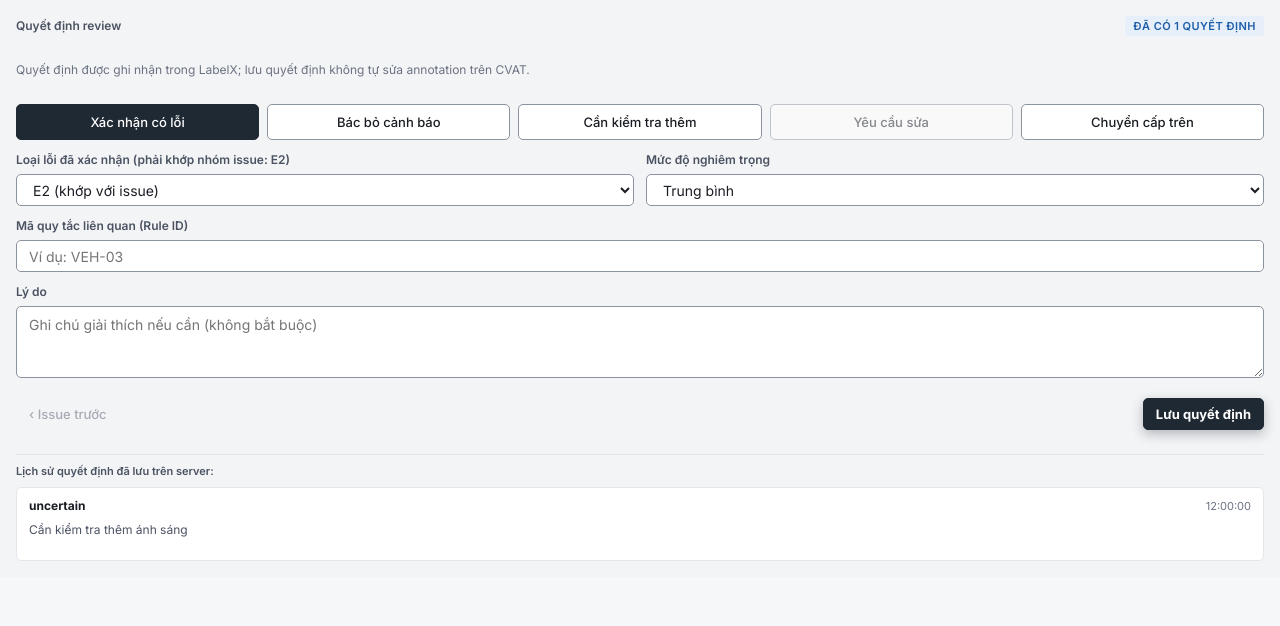
Test: T-035 PR130 Interface Integration Tests (T-037 Preparation) › ReviewDecisionForm T-035 contract behavior › handles 409 INVALID_TRANSITION without invalidating lease
What coordinates should you click on to do the following:
click the button "Lưu quyết định"
I would click on:
 (1203, 414)
Its box is [1143,398,1264,430].
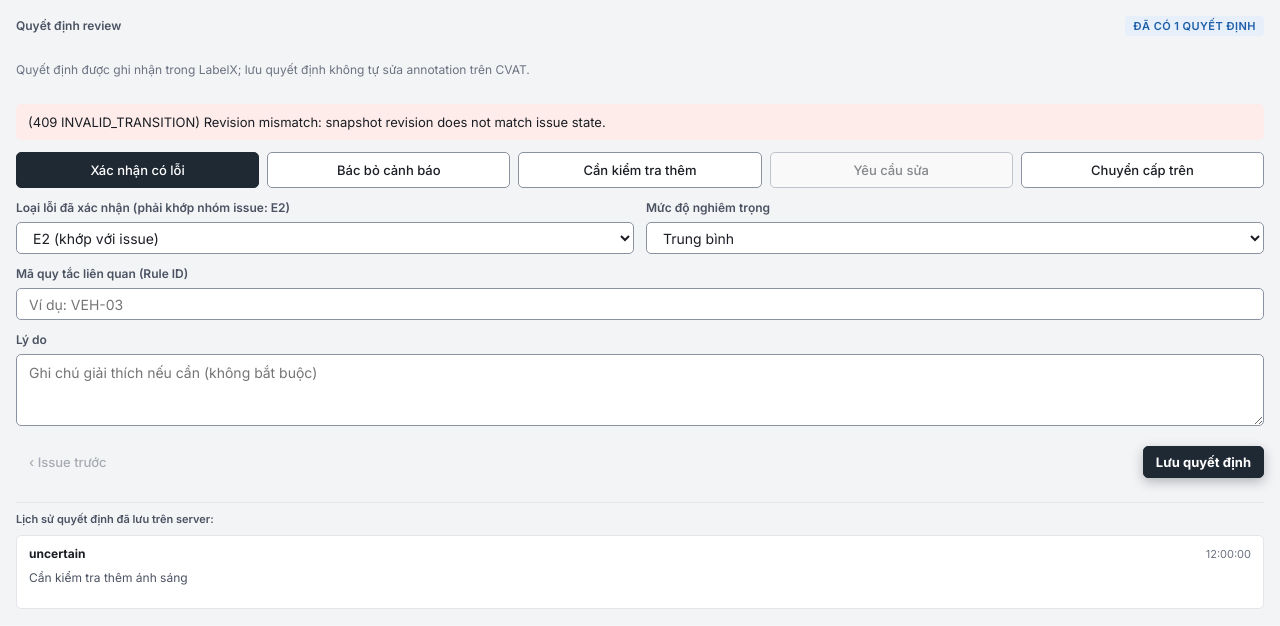
Expected: the button "Lưu quyết định" is enabled, [1143,446,1264,478]
Result: the text "INVALID_TRANSITION" is shown at [28,114,606,130]
